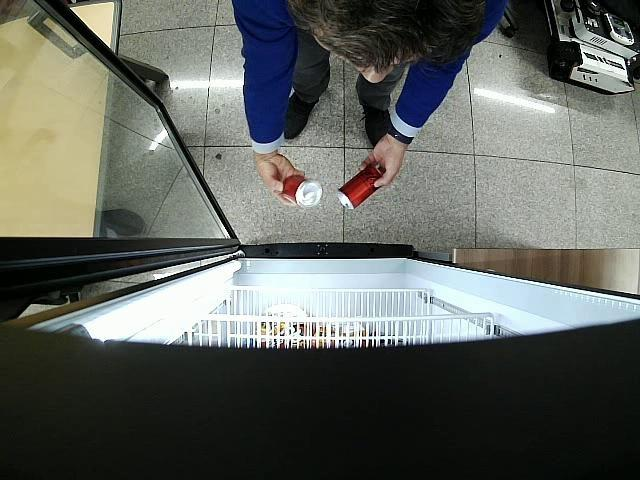11_cocaColaZero: (338, 164, 383, 210), (284, 175, 324, 209)
